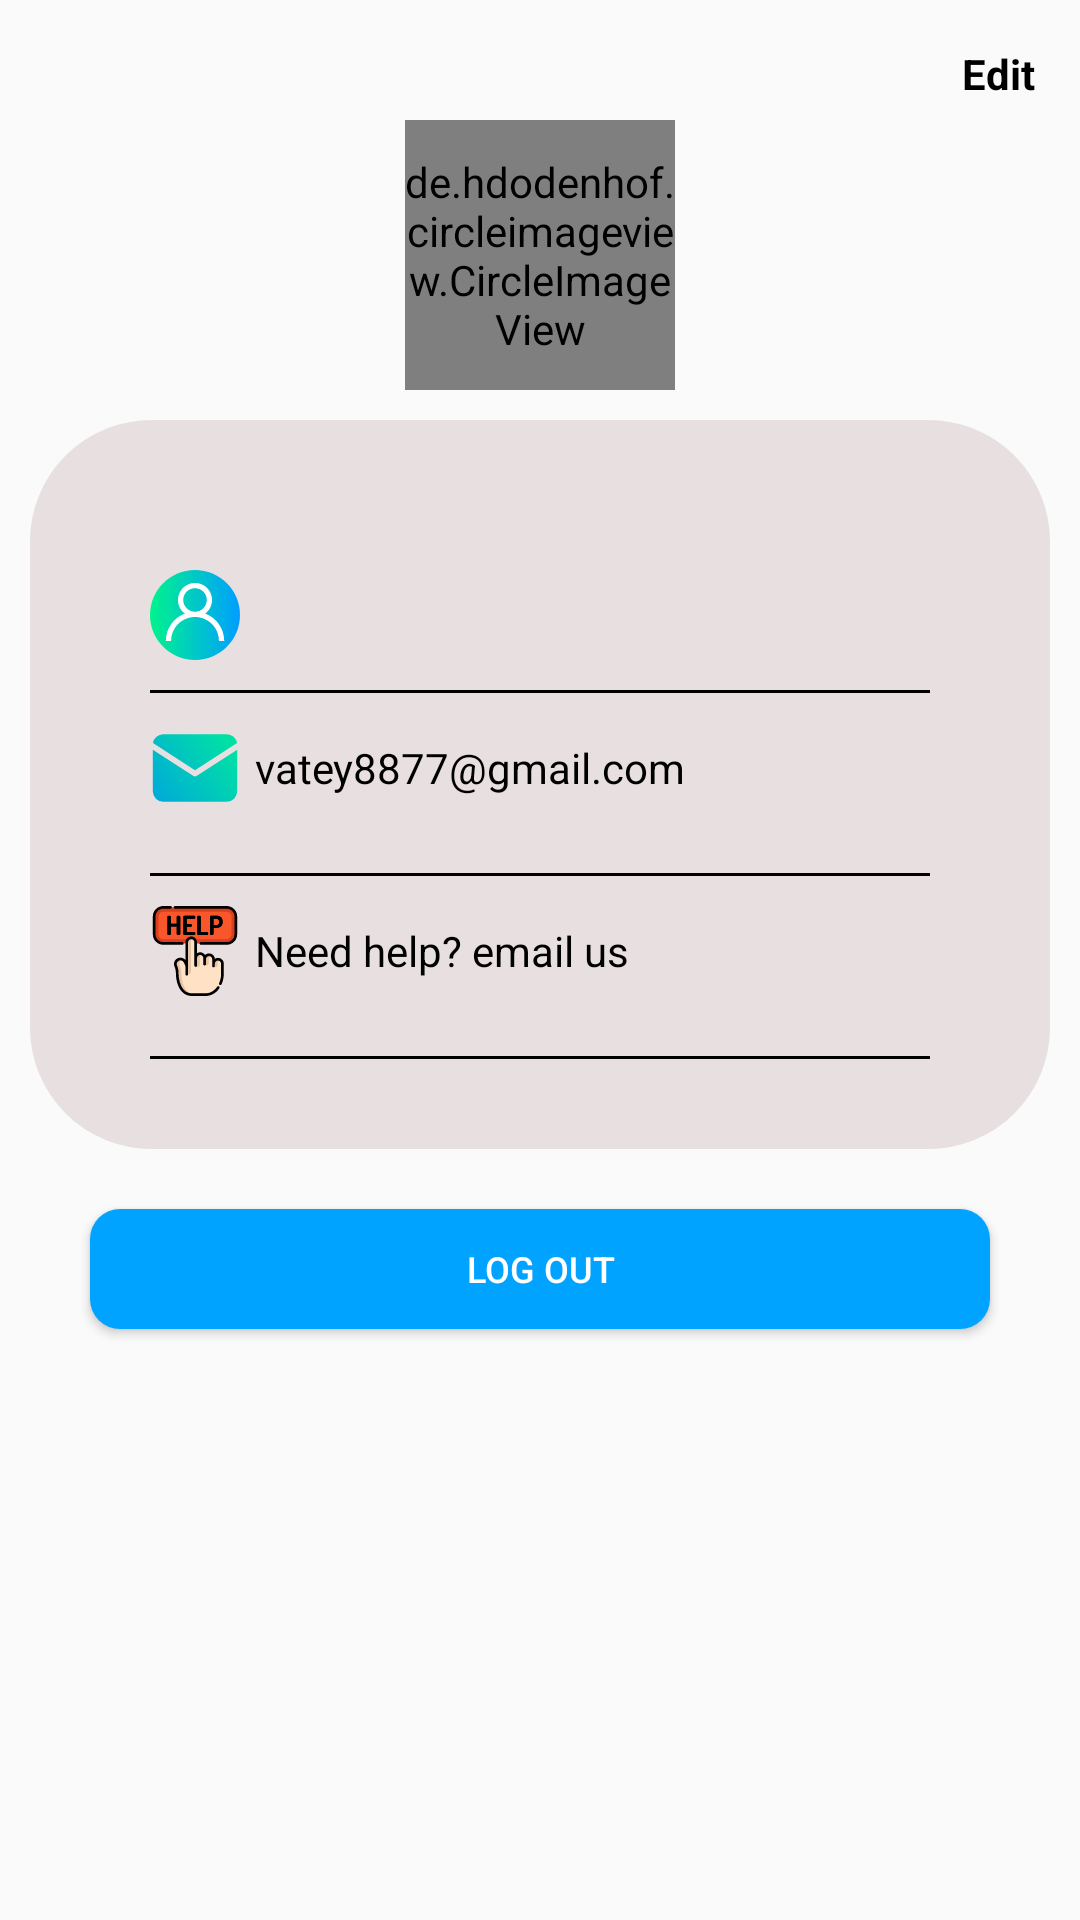

Point at icon controls on the screen. Image size 1080x1920, points as [x,y].
user: [195,615]
